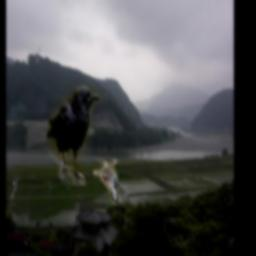Crow: (46, 86, 100, 185)
Sparrow: (92, 159, 118, 206)
